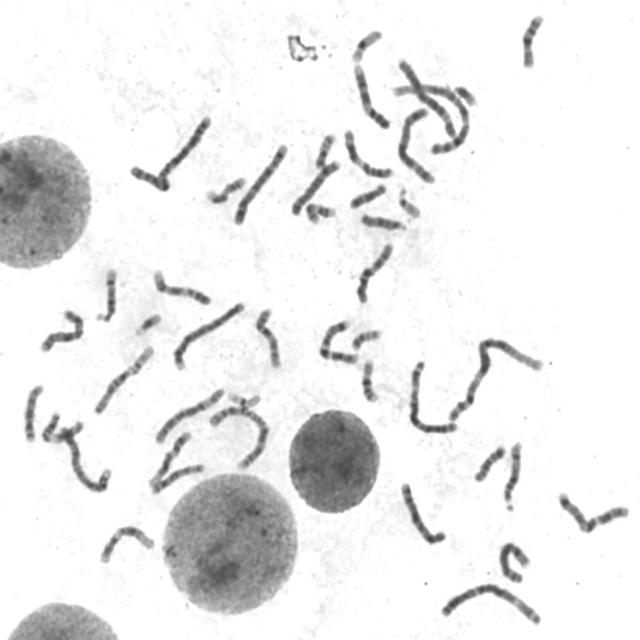A1: (442, 330, 546, 423), (391, 57, 471, 154)
A2: (126, 112, 218, 193), (204, 401, 272, 472)
A3: (436, 578, 544, 628), (404, 355, 460, 436)
B4: (168, 296, 248, 372), (54, 420, 114, 494)
B5: (229, 139, 290, 227), (394, 102, 438, 185)
C10: (352, 237, 396, 306), (250, 302, 285, 371)
C11: (339, 124, 396, 180), (38, 408, 85, 446)
C12: (145, 425, 193, 490), (95, 520, 157, 566)
C6: (393, 52, 463, 146), (150, 383, 227, 446)
C7: (554, 486, 633, 534), (315, 316, 362, 366)
C8: (287, 155, 343, 217), (495, 538, 534, 586)
C9: (348, 59, 392, 131), (149, 264, 214, 308)
D13: (148, 462, 209, 497), (19, 379, 46, 444)
D14: (499, 437, 525, 513), (92, 263, 120, 324)
D15: (90, 364, 140, 418), (357, 209, 410, 233)
E16: (517, 8, 546, 70), (358, 354, 382, 404)
E17: (202, 172, 249, 206), (302, 199, 338, 226)
E18: (470, 440, 508, 484), (346, 179, 388, 211)
F19: (347, 24, 385, 64), (223, 386, 264, 411)
F20: (311, 129, 338, 170), (348, 324, 384, 352)
G21: (130, 308, 163, 337), (450, 79, 480, 107)
G22: (393, 181, 423, 220), (124, 342, 156, 376)
X: (396, 477, 449, 547), (35, 304, 86, 354)
